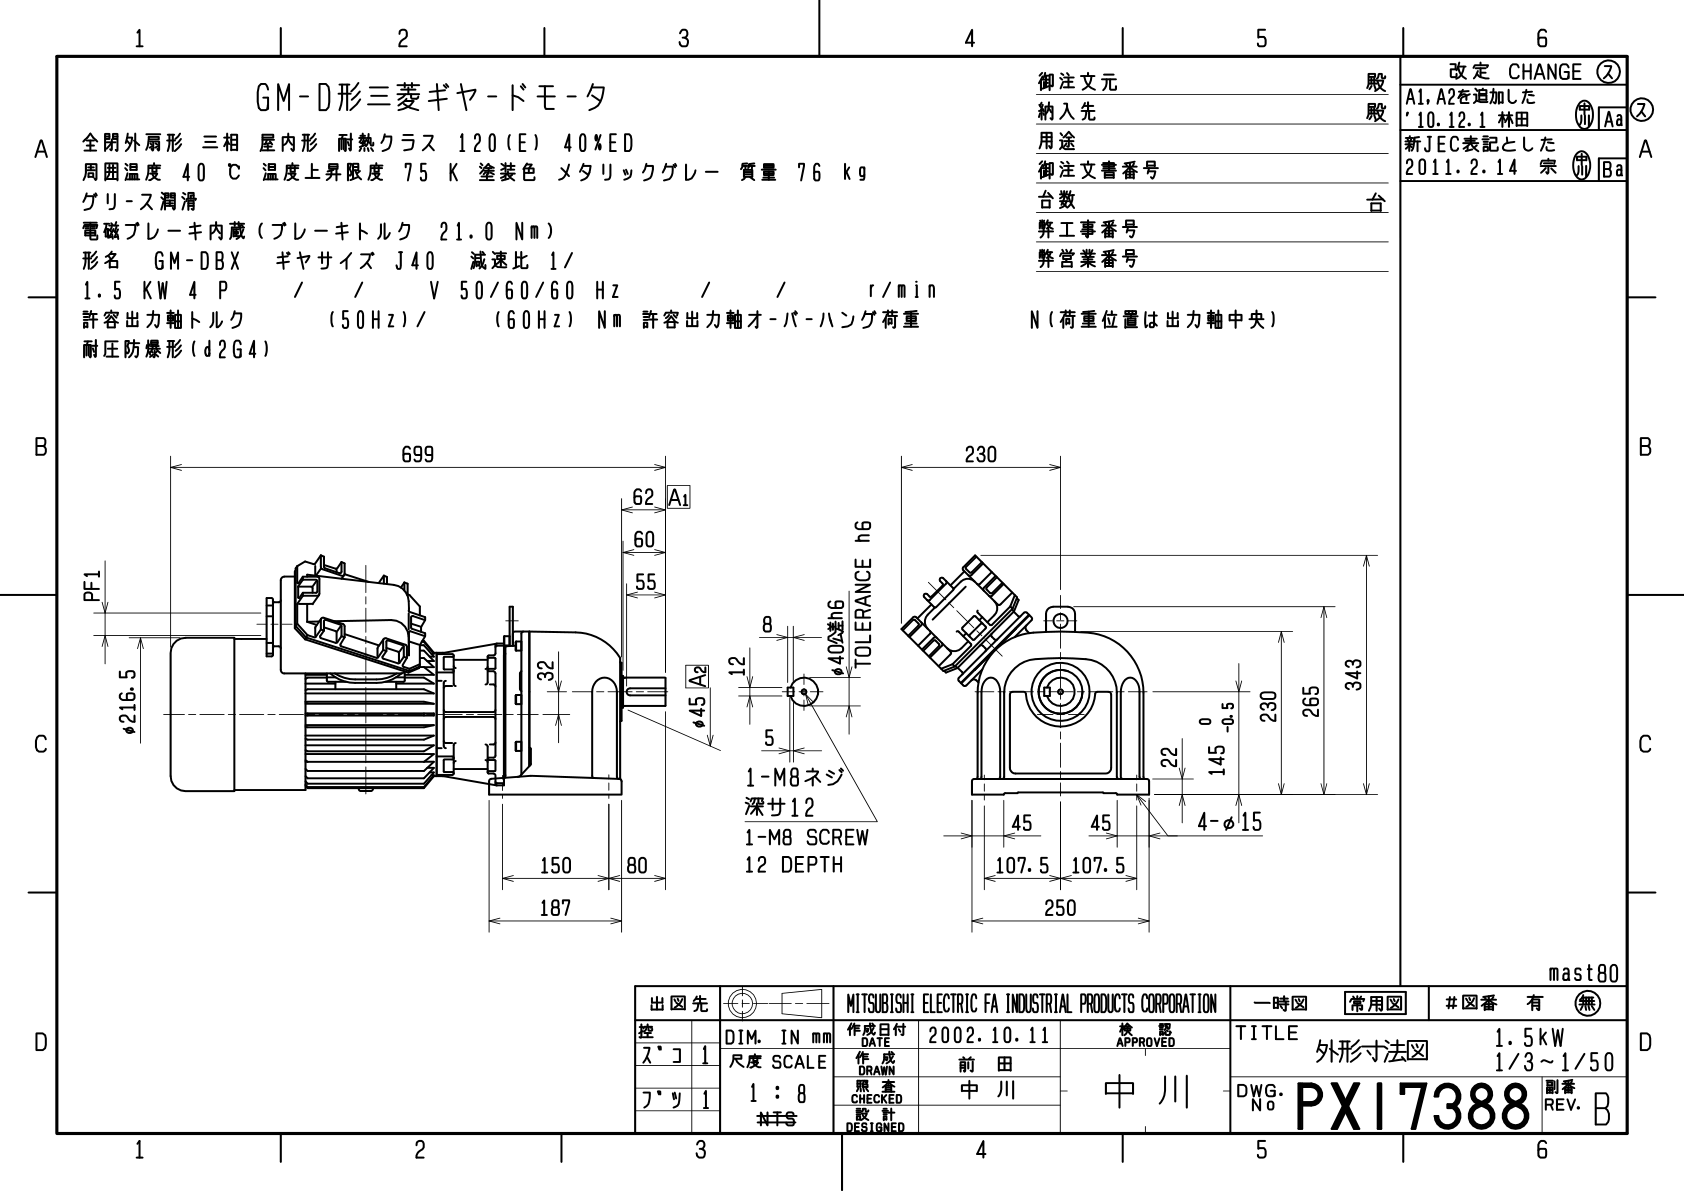GM_D_耐圧屋内_三相_脚: (1, 1, 1658, 1164)
